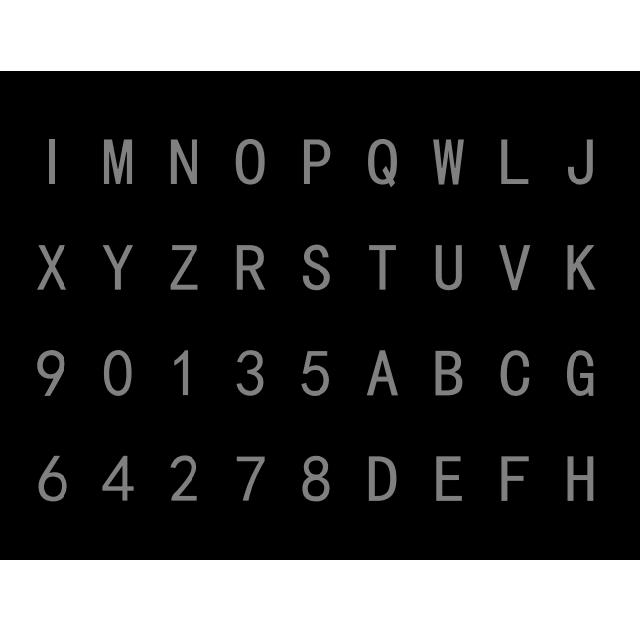0: (102, 348, 134, 401), (235, 134, 266, 188), (435, 240, 465, 292)
1: (173, 346, 195, 396)
2: (166, 450, 200, 508)
3: (229, 344, 265, 402)
4: (99, 452, 134, 509)
5: (296, 344, 331, 402)
6: (33, 448, 69, 510)
7: (234, 450, 266, 505)
8: (301, 450, 331, 507), (432, 346, 460, 399)
9: (365, 137, 397, 195), (32, 345, 64, 399)
A: (363, 342, 399, 402)
C: (495, 347, 539, 400)
D: (364, 453, 398, 506)
E: (432, 452, 462, 504)
F: (496, 453, 530, 505)
G: (563, 346, 603, 402)
H: (557, 449, 599, 507)
I: (33, 135, 75, 191)
J: (564, 135, 603, 191)
K: (560, 235, 598, 296)
L: (498, 132, 528, 186)
M: (99, 135, 134, 185)
N: (161, 134, 207, 190)
P: (295, 133, 332, 188)
R: (229, 239, 272, 294)
S: (297, 239, 340, 296)
T: (361, 240, 407, 294)
V: (499, 242, 538, 296)
W: (430, 134, 464, 186)
X: (36, 242, 72, 296)
Y: (104, 242, 139, 296)
Z: (166, 235, 202, 295)
